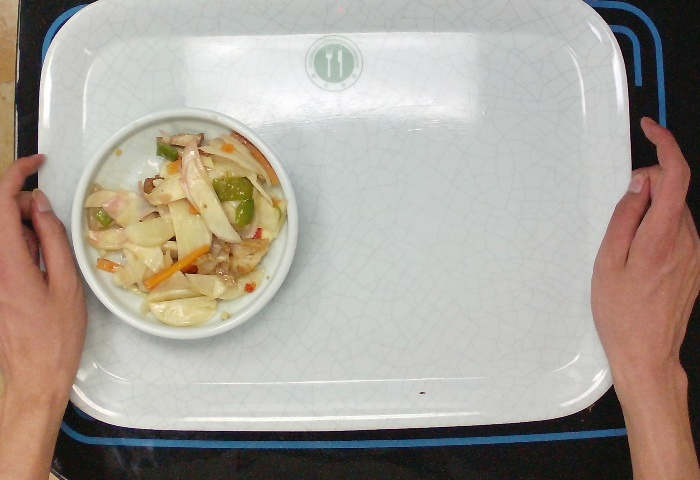JYsf-Xiao_Yuan_Pan: (65, 102, 305, 344)
